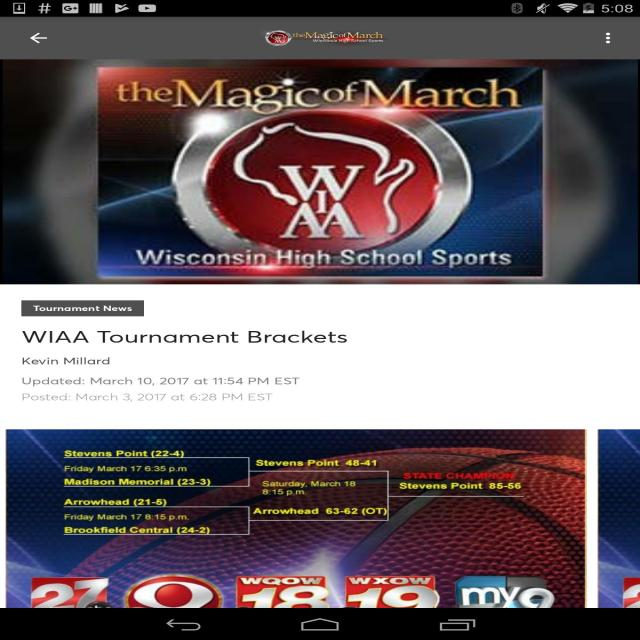button: (24, 30, 52, 48), (600, 28, 619, 51)
heading: (21, 328, 348, 345)
image: (1, 58, 640, 286), (8, 428, 584, 610), (100, 67, 545, 278), (266, 24, 388, 53)
text: (19, 375, 302, 404), (399, 471, 523, 492), (58, 444, 190, 459), (259, 478, 358, 497), (63, 510, 192, 522), (59, 476, 213, 486), (60, 462, 198, 473), (250, 506, 386, 517), (56, 494, 173, 506), (253, 457, 379, 468), (62, 525, 214, 534), (28, 303, 136, 314), (19, 355, 115, 367)
